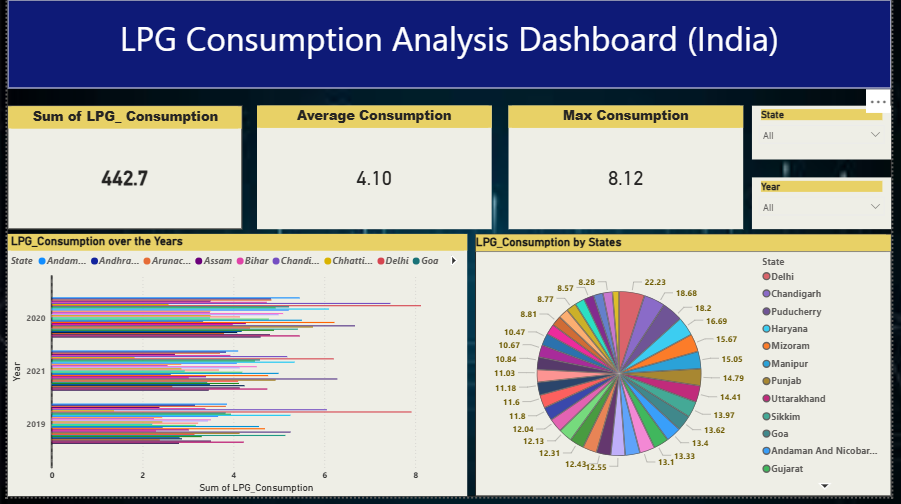

What the dashboard file says about the page in this screenshot:
{"tool":"powerbi","page":{"name":"Page 1","canvas":[1280,720],"ordinal":0},"visuals":[{"type":"lineClusteredColumnComboChart","title":"LPG_Consumption over the Years","fields":{"Category":["LPG Consumption Analysis.Year"],"Series":["LPG Consumption Analysis.State"],"Y":["Sum(LPG Consumption Analysis.LPG_Consumption)"]},"box":[0,339.5,665.9,380.5],"z":0},{"type":"pieChart","title":"LPG_Consumption by States","fields":{"Category":["LPG Consumption Analysis.State"],"Y":["Sum(LPG Consumption Analysis.LPG_Consumption)"]},"box":[677.6,339.5,602.9,380.5],"z":1000},{"type":"card","title":"Sum of LPG_ Consumption                                                                                                                                                          (Per Capita)","fields":{"Values":["Sum(LPG Consumption Analysis.LPG_Consumption)"]},"box":[0,153.7,339.5,178.5],"z":2000},{"type":"card","title":"Average Consumption (Per Capita)","fields":{"Values":["Avg(LPG Consumption Analysis.LPG_Consumption)"]},"box":[361.5,153.7,339.5,178.5],"z":3000},{"type":"card","title":"Maximum Consumption  (Per Capita)","fields":{"Values":["Max(LPG Consumption Analysis.LPG_Consumption)"]},"box":[725.9,153.7,339.5,178.5],"z":4000},{"type":"slicer","title":"Sat","fields":{"Values":["LPG Consumption Analysis.State"]},"box":[1078.5,153.7,202,77.6],"z":5000},{"type":"slicer","title":"Sat","fields":{"Values":["LPG Consumption Analysis.Year"]},"box":[1078.5,257.6,202,74.6],"z":6000},{"type":"textbox","box":[0,0,1280.5,128.8],"z":7000}]}

Visuals, with their boxes in screenshot pixels (x1, y1, x2, y2), scaled from the page's 1280x720 canvas onto the 901x504 screenshot:
"LPG_Consumption over the Years" lineClusteredColumnComboChart: region(0, 238, 469, 503)
"LPG_Consumption by States" pieChart: region(477, 238, 900, 503)
"Sum of LPG_ Consumption                                                                                                                                                          (Per Capita)" card: region(0, 108, 239, 233)
"Average Consumption (Per Capita)" card: region(254, 108, 493, 233)
"Maximum Consumption  (Per Capita)" card: region(511, 108, 750, 233)
"Sat" slicer: region(759, 108, 900, 162)
"Sat" slicer: region(759, 180, 900, 233)
textbox: region(0, 0, 900, 90)
